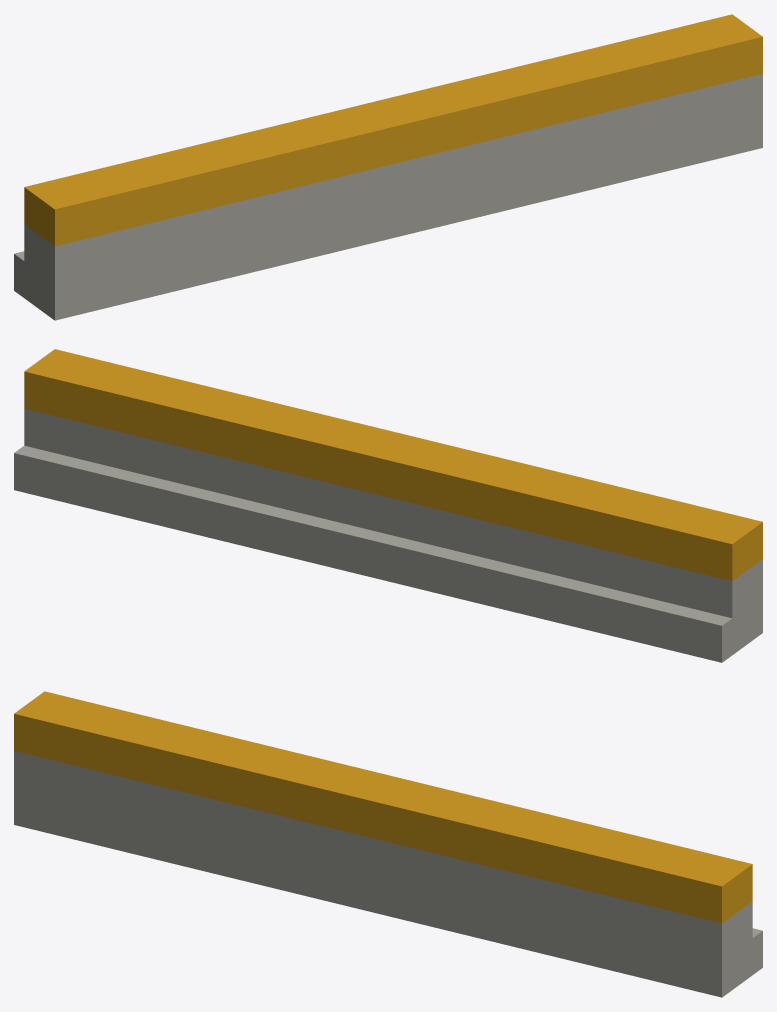
The model's file is ws_wall_low.glb.
The picture shows the model from 3 angles, top to bottom: view 1: azimuth 30°, elevation 25°; view 2: azimuth 150°, elevation 25°; view 3: azimuth 330°, elevation 25°; orthographic projection.
Visible parts, largest first — view 1: wall; view 2: wall; view 3: wall.
Part boxes in pixels (x1=…): wall: x1=14, y1=14, x2=762, y2=320; wall: x1=14, y1=349, x2=762, y2=662; wall: x1=14, y1=691, x2=762, y2=997.
Size of the model in its own units: 4 by 0.6 by 0.4.
